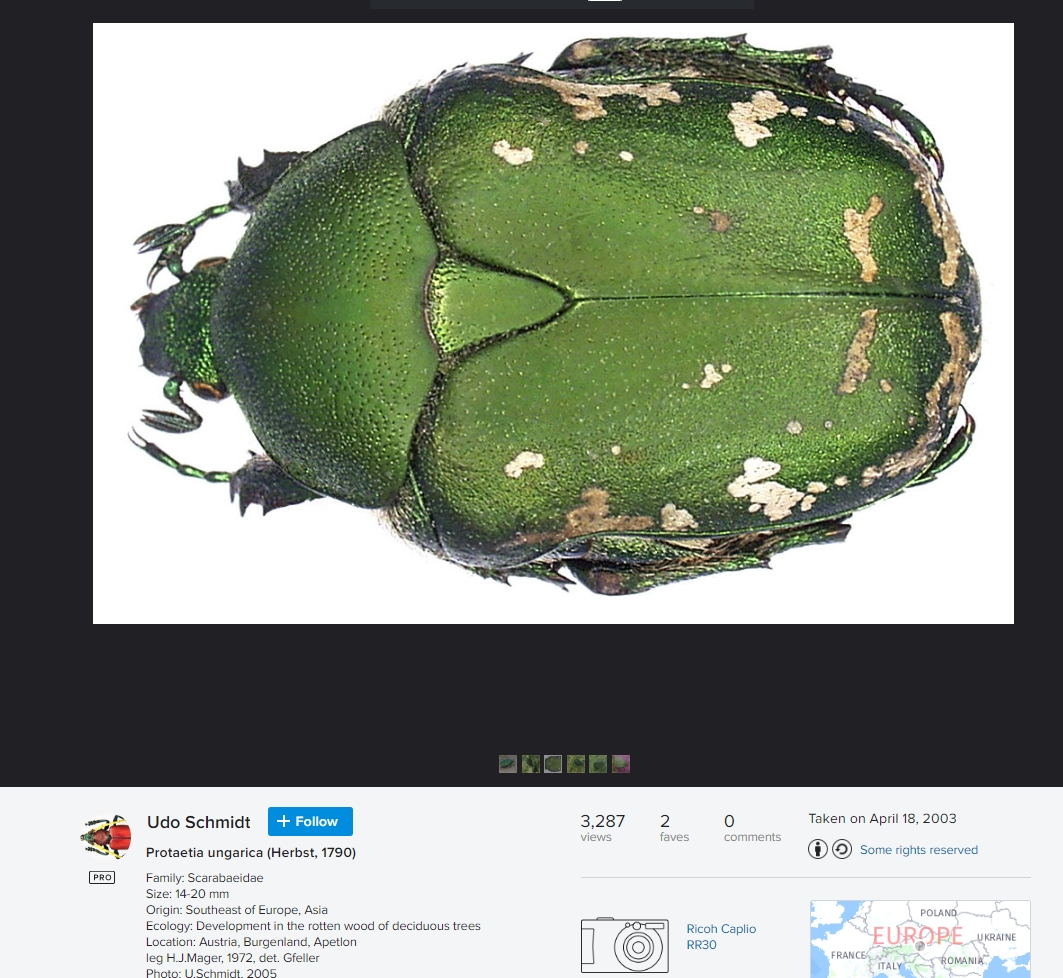Protaetia_ungarica: (105, 30, 1000, 600)
